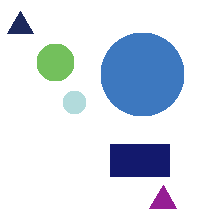circle: (101, 33, 183, 115), (37, 44, 73, 80), (63, 91, 85, 113)
rectangle: (110, 144, 169, 176)
triangle: (149, 185, 176, 208), (7, 11, 33, 33)
